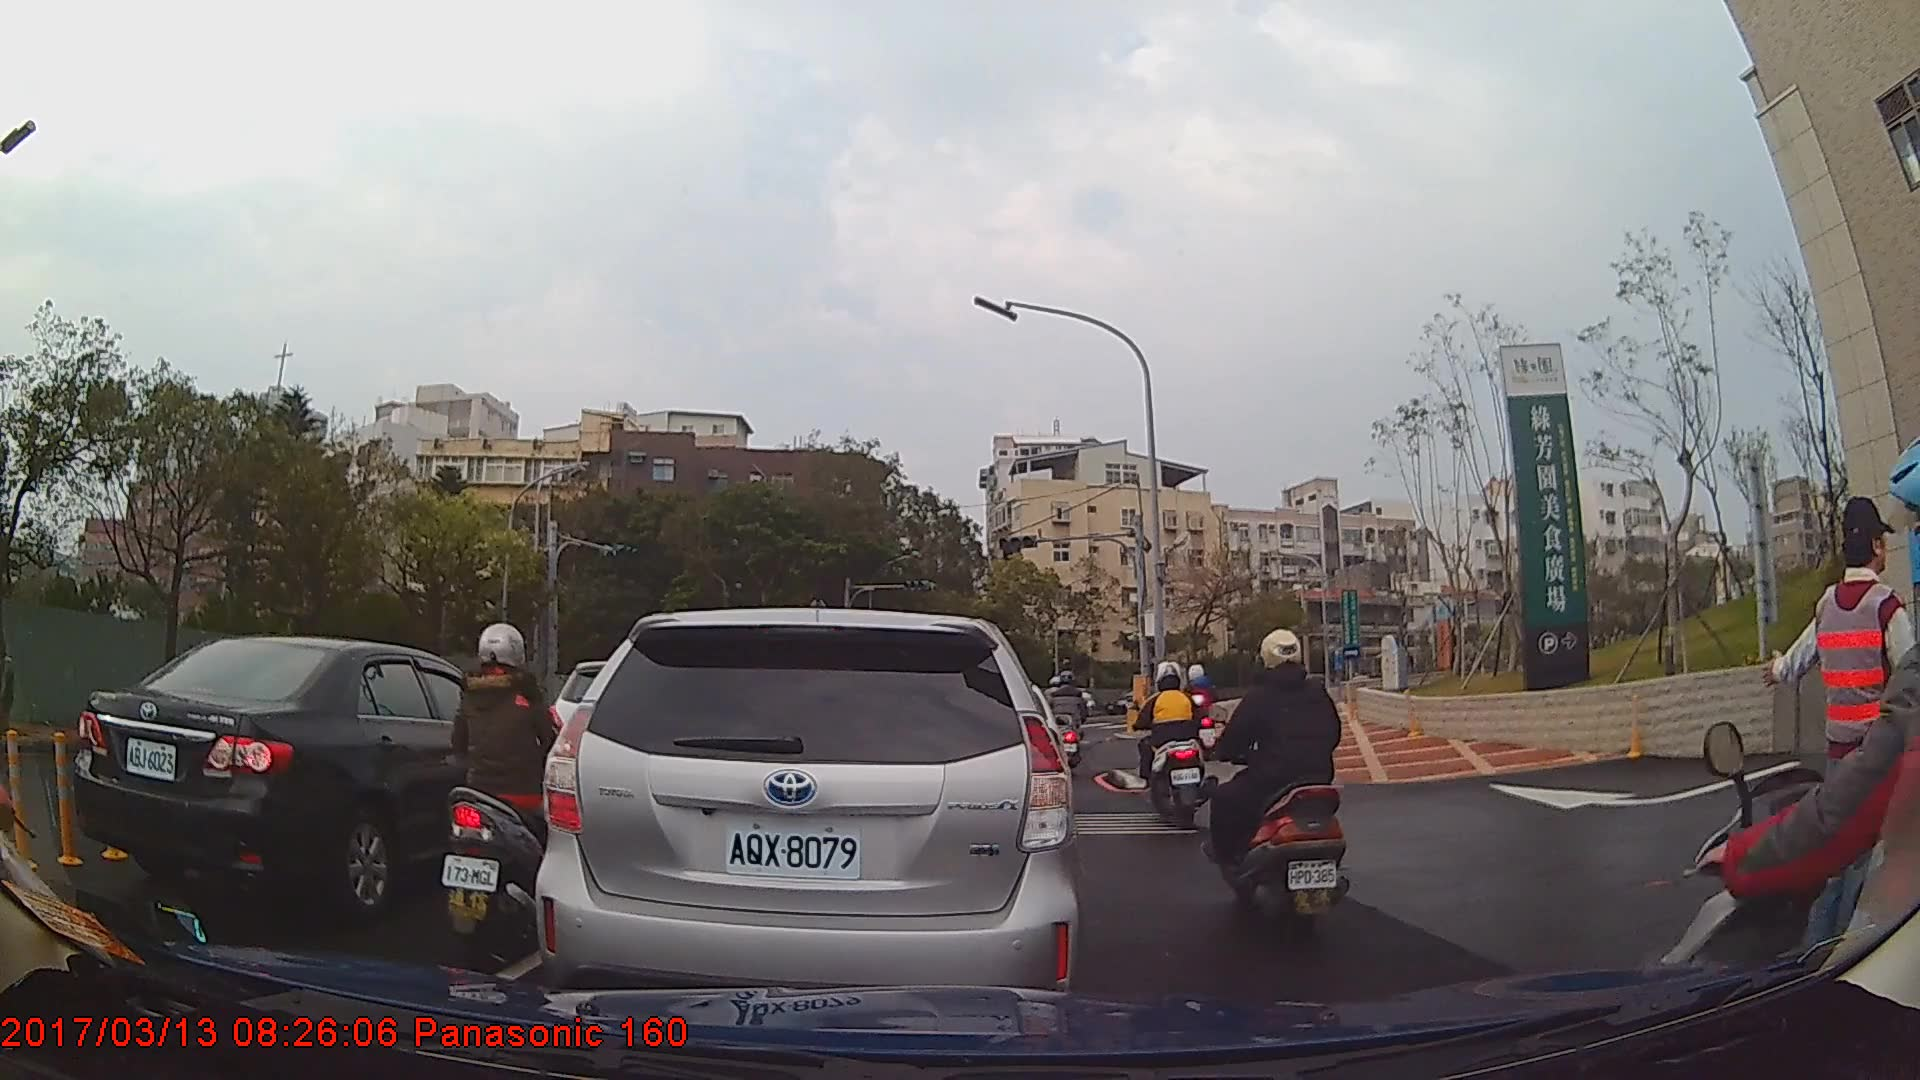rider: (1661, 435, 1920, 1080), (1204, 626, 1356, 947), (438, 621, 572, 956), (1132, 659, 1217, 832), (1178, 663, 1225, 764), (1046, 671, 1091, 773)
vehicle: (533, 604, 1082, 1019), (72, 635, 568, 918), (1100, 681, 1168, 714)
